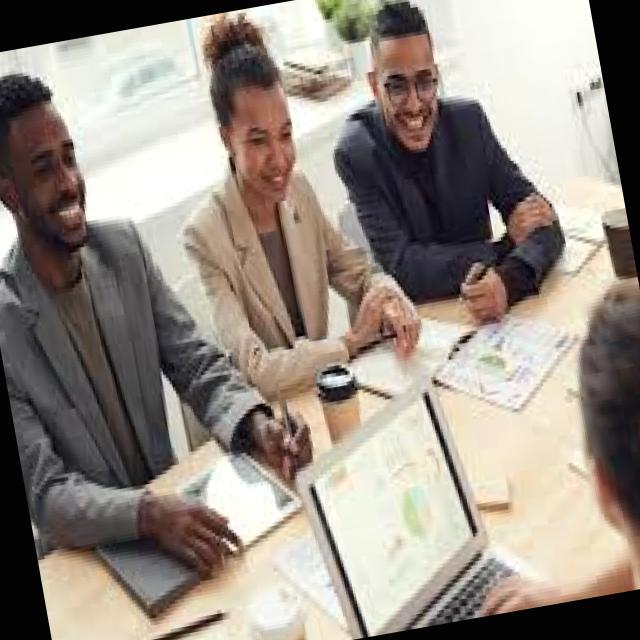Hand: (138, 477, 250, 585), (250, 398, 322, 483), (474, 562, 576, 616), (361, 284, 427, 362), (452, 254, 514, 328), (332, 284, 400, 350), (498, 183, 566, 247)
